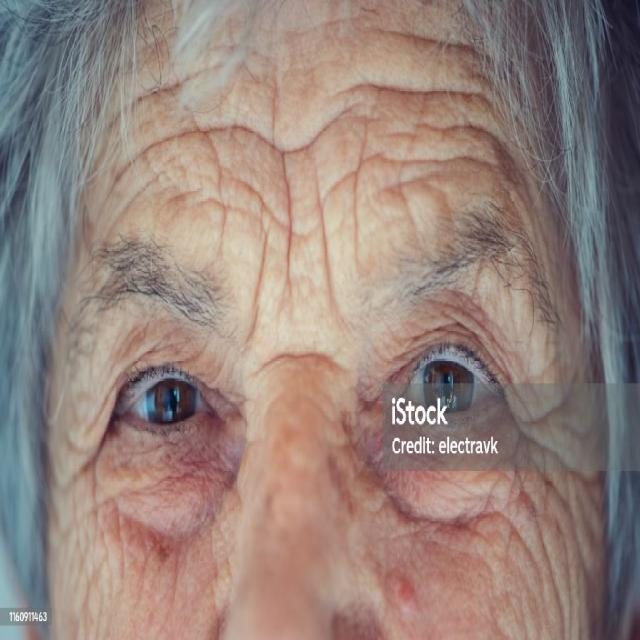dry: (340, 465, 566, 640), (242, 98, 400, 276), (58, 447, 179, 640)
